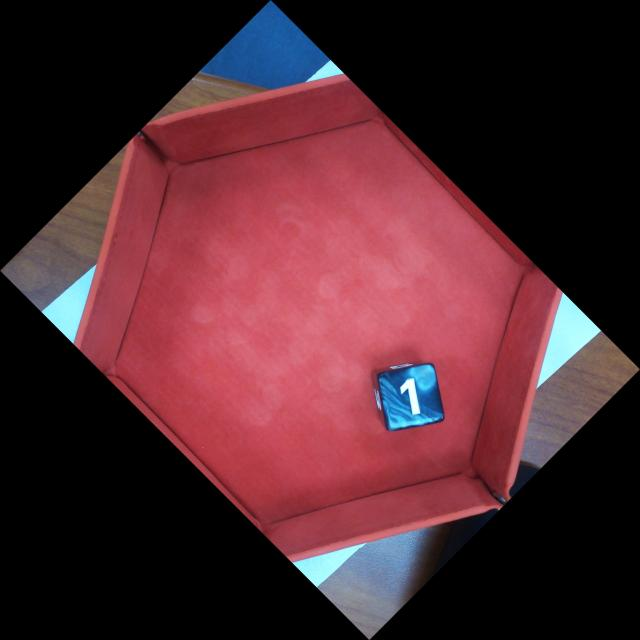dice: (375, 361, 448, 434)
